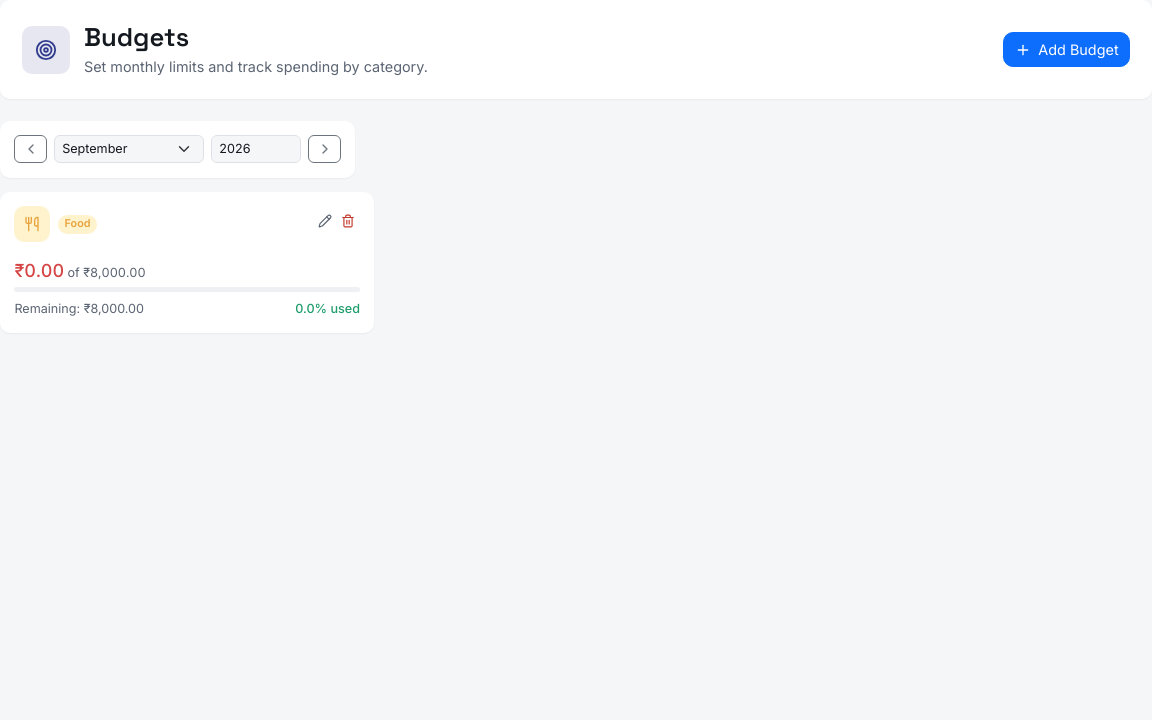
it: Budgets page › budget-edit threshold toast › shows the exceeded toast when a budget edit itself pushes usage to 100%+
This screenshot has width=1152, height=720.
Step 1. Click the button named "edit" → coordinates (325, 220), box [314,206,337,234]
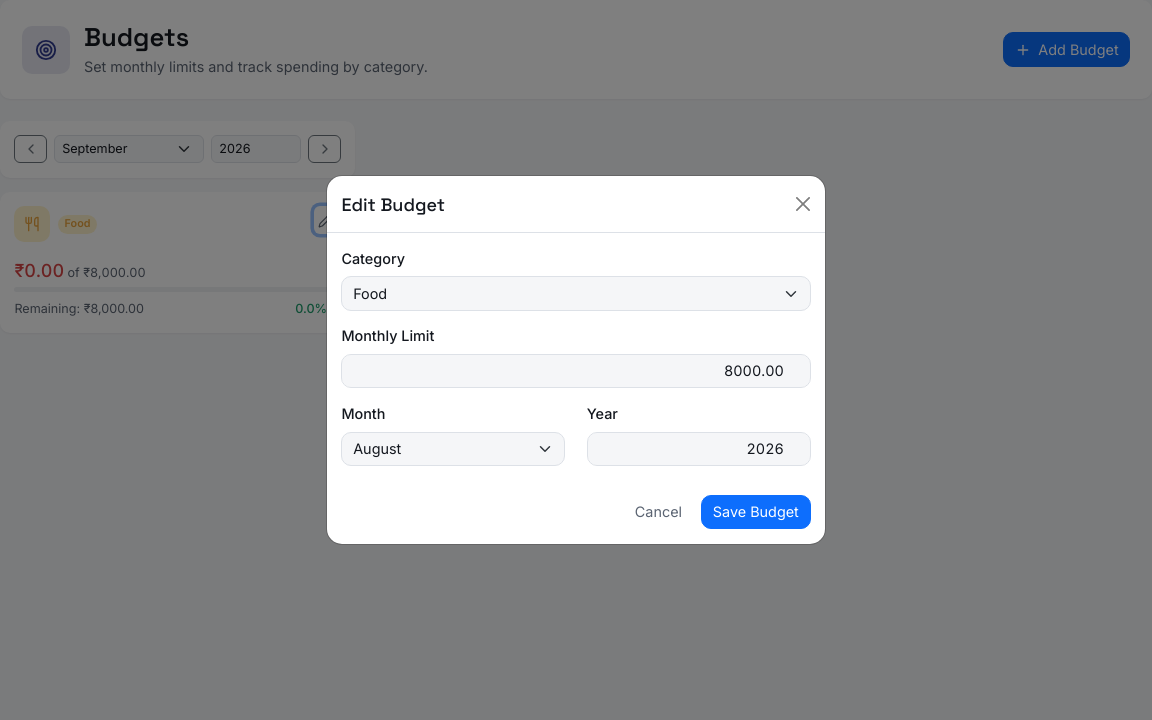
Step 2. Replace the text in the number field labelled "Monthly Limit" with "7000" → coordinates (576, 371), box [341,354,811,388]
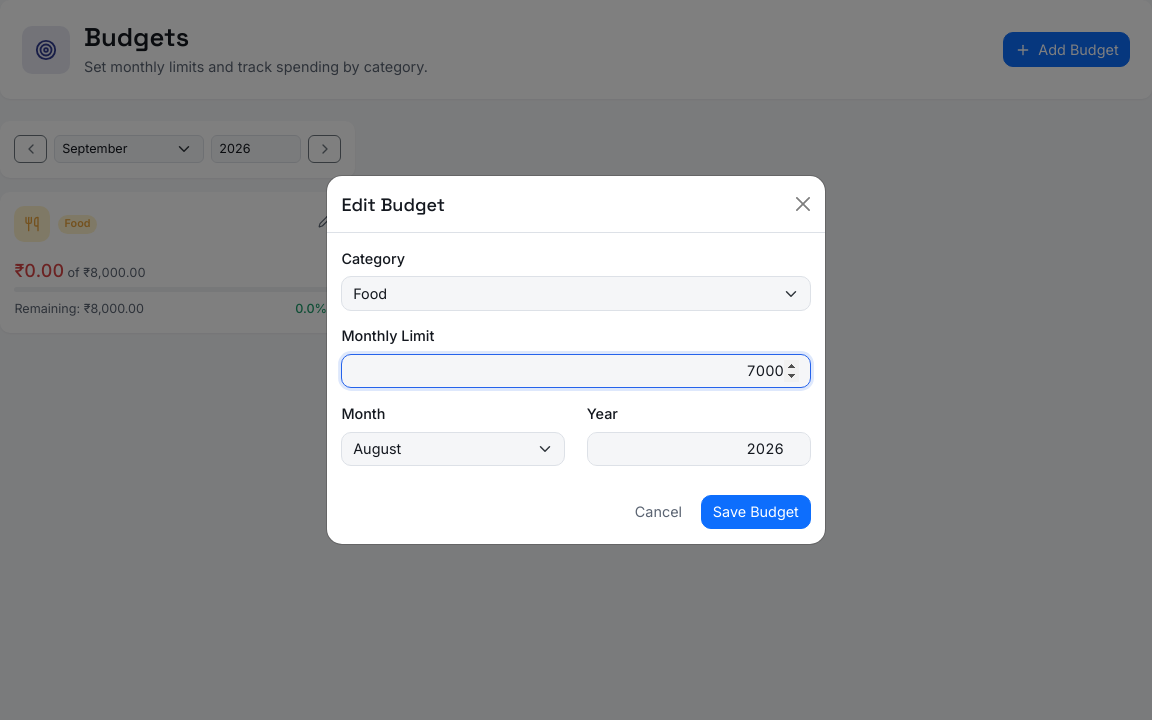
Step 3. Click the button "Save Budget" → coordinates (756, 512), box [701,495,811,529]
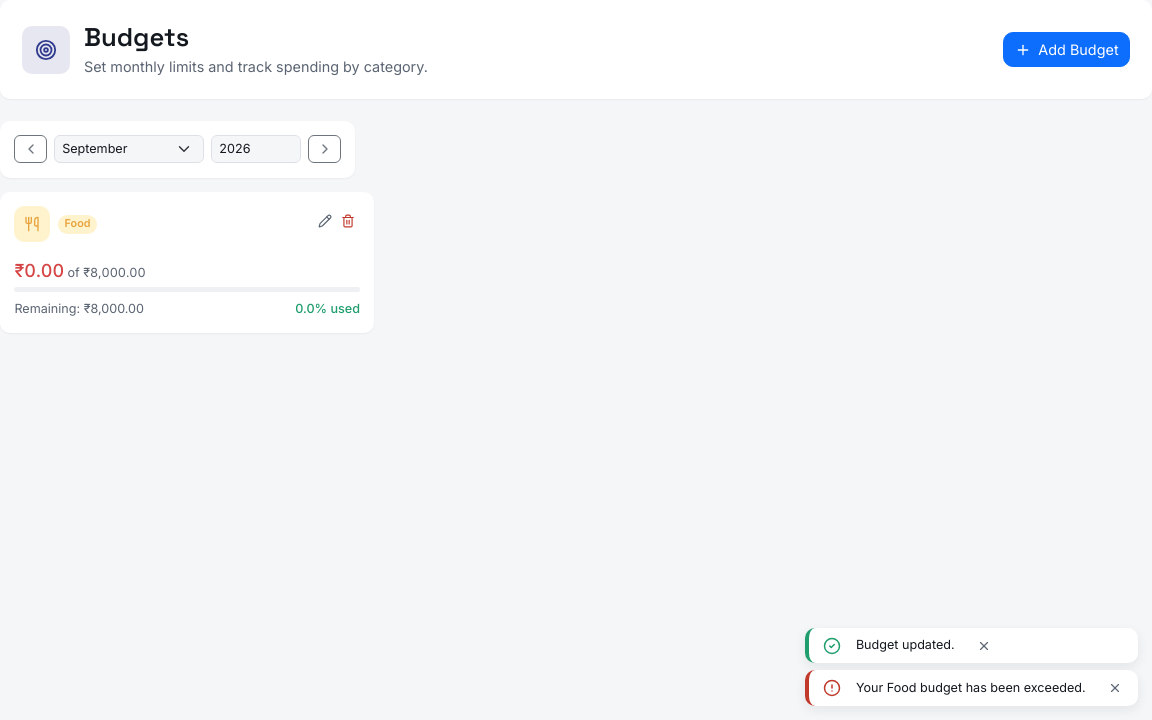
Now the text "Your Food budget has been exceeded." is shown, box [856,678,1086,697]
